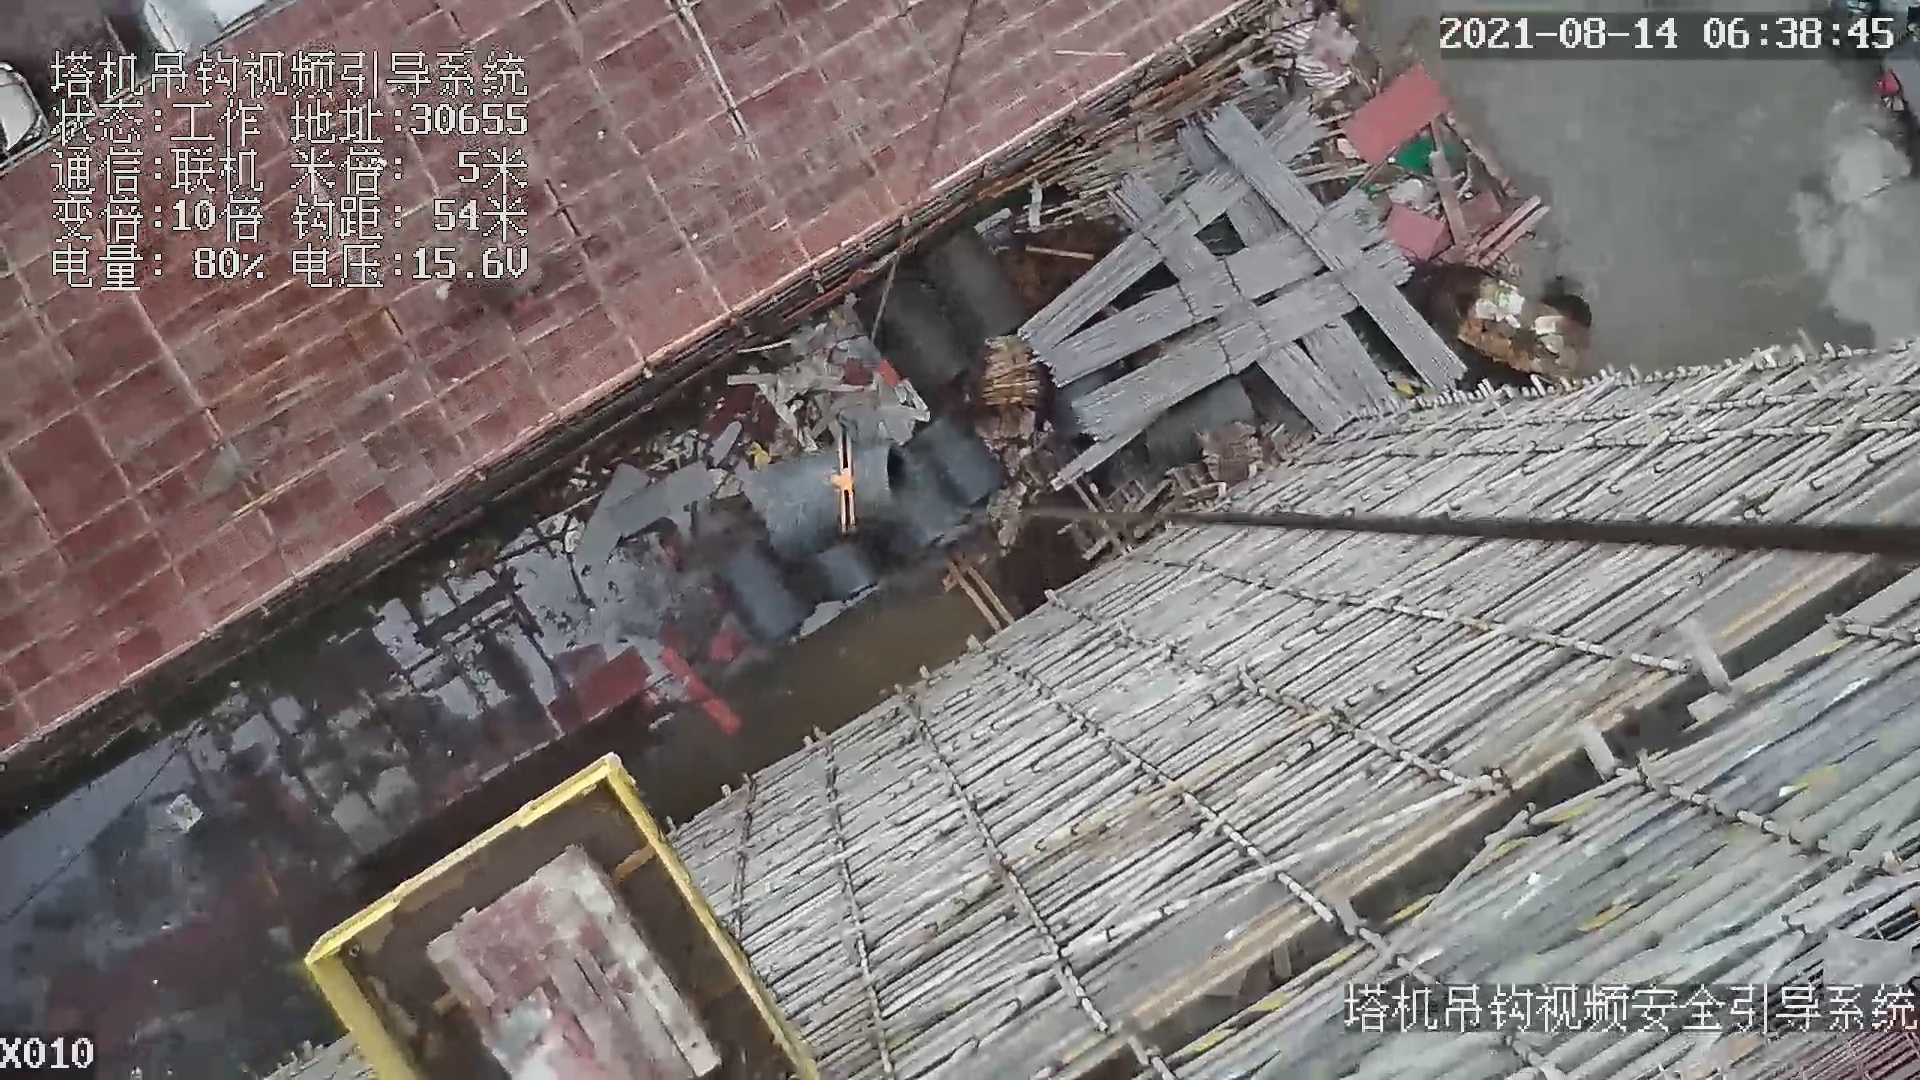hook: (823, 431, 864, 531)
